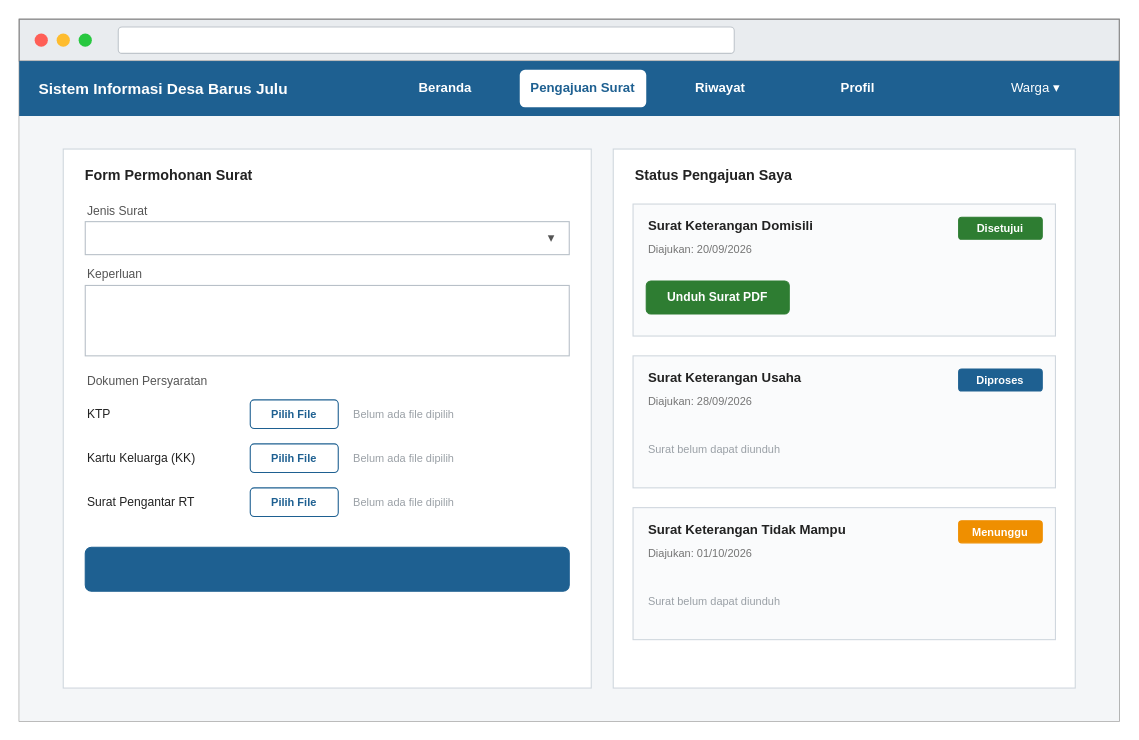
This 1139x740 diagram has some shape labels left out. The shapes that lost their labels are listed below. From the top down, each one's box as (x1, y1, x2, y2) in pixels, then its label:
(117, 26, 734, 53): localhost/desa-barus-julu/warga/pengajuan
(84, 221, 569, 255): Pilih jenis surat
(84, 284, 569, 356): Tuliskan keperluan pengajuan surat
(84, 546, 569, 591): Kirim Pengajuan
